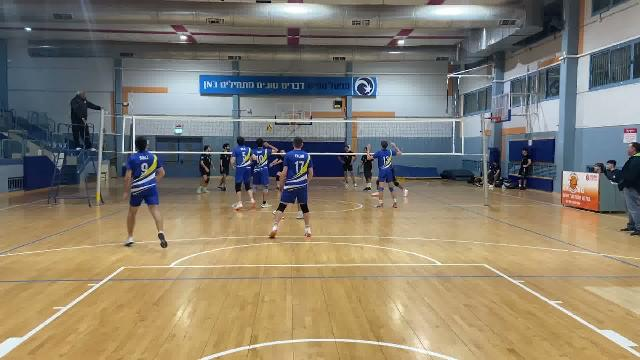ball: (267, 124, 275, 131)
